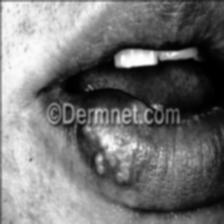Toxin: (92, 132, 132, 182)
